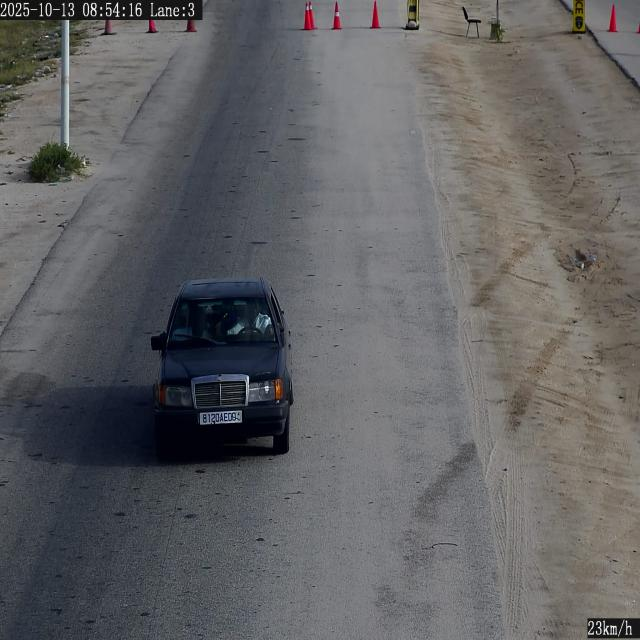BUS: (199, 411, 242, 424)
